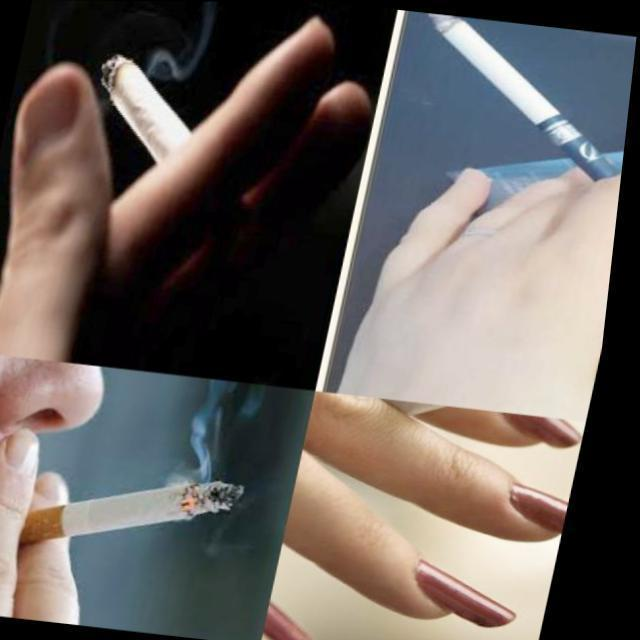Cigarette: (417, 8, 614, 183), (23, 473, 254, 558), (97, 40, 197, 151)
